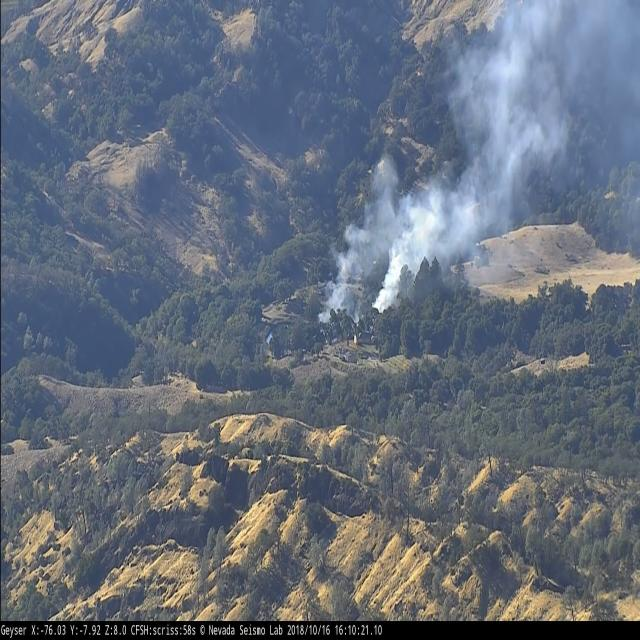smoke: (316, 0, 594, 329)
